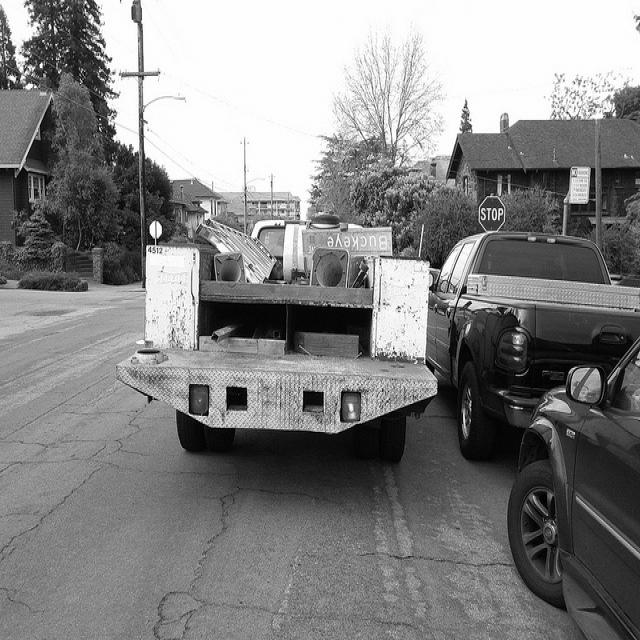car: (505, 332, 636, 631)
pole: (132, 0, 146, 285)
truck: (114, 204, 438, 464), (424, 228, 639, 461)
